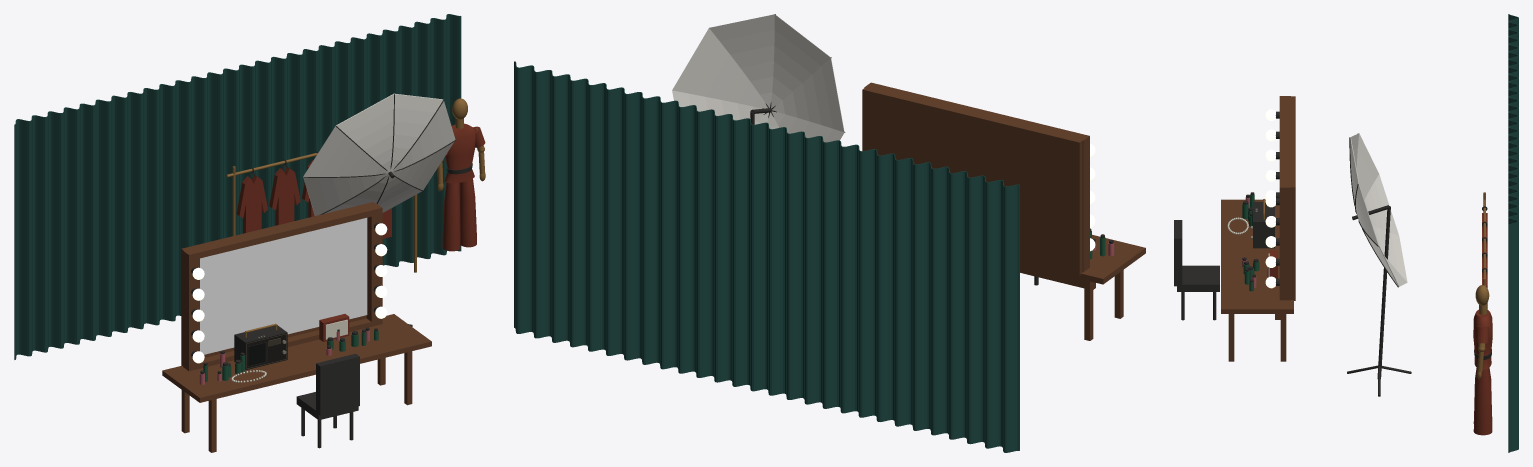
3 views of the same model, side by side, from view 1: azimuth 30°, elevation 25°; view 2: azimuth 150°, elevation 25°; view 3: azimuth 270°, elevation 25° (orthographic). The views are drawn at different scales.
Parts seen in each view (by area): view 1: MIRROR_surface, UMBRELLA_finite_canopy_proxy, TABLE_top, CURTAIN_fold_proxy_0, CURTAIN_fold_proxy_1, CURTAIN_fold_proxy_5, CURTAIN_fold_proxy_4, CURTAIN_fold_proxy_7, CURTAIN_fold_proxy_8, CURTAIN_fold_proxy_2, CURTAIN_fold_proxy_3, CURTAIN_fold_proxy_6 (+34 smaller); view 2: MIRROR_backboard_inferred, UMBRELLA_finite_canopy_proxy, CURTAIN_fold_proxy_4, CURTAIN_fold_proxy_19, CURTAIN_fold_proxy_14, CURTAIN_fold_proxy_24, CURTAIN_fold_proxy_6, CURTAIN_fold_proxy_2, CURTAIN_fold_proxy_1, CURTAIN_fold_proxy_5, CURTAIN_fold_proxy_16, CURTAIN_fold_proxy_26 (+21 smaller); view 3: TABLE_top, UMBRELLA_finite_canopy_proxy, CURTAIN_fold_proxy_27, MIRROR_frame_1, MANNEQUIN_red_bifurcated_lower_proxy_1, CHAIR_seat_proxy, MIRROR_backboard_inferred, MIRROR_frame_horizontal_2.31, COSMETIC_case_body, MANNEQUIN_red_upper_clothing_proxy, UMBRELLA_stand_inferred, CHAIR_back_proxy.
Boxes of the visible parts, bbox=[...] form: MIRROR_surface: bbox=[200, 217, 367, 354]; UMBRELLA_finite_canopy_proxy: bbox=[303, 93, 455, 215]; TABLE_top: bbox=[162, 314, 431, 402]; CURTAIN_fold_proxy_0: bbox=[14, 119, 30, 359]; CURTAIN_fold_proxy_1: bbox=[30, 115, 46, 355]; CURTAIN_fold_proxy_5: bbox=[94, 99, 110, 340]; CURTAIN_fold_proxy_4: bbox=[78, 103, 94, 344]; CURTAIN_fold_proxy_7: bbox=[126, 92, 142, 332]; CURTAIN_fold_proxy_8: bbox=[142, 88, 158, 328]; CURTAIN_fold_proxy_2: bbox=[46, 111, 62, 351]; CURTAIN_fold_proxy_3: bbox=[62, 107, 78, 347]; CURTAIN_fold_proxy_6: bbox=[110, 95, 126, 336]; MIRROR_backboard_inferred: bbox=[862, 87, 1082, 275]; UMBRELLA_finite_canopy_proxy: bbox=[672, 14, 844, 142]; CURTAIN_fold_proxy_4: bbox=[929, 162, 947, 435]; CURTAIN_fold_proxy_19: bbox=[658, 96, 676, 369]; CURTAIN_fold_proxy_14: bbox=[748, 118, 766, 391]; CURTAIN_fold_proxy_24: bbox=[568, 74, 586, 347]; CURTAIN_fold_proxy_6: bbox=[893, 153, 911, 426]; CURTAIN_fold_proxy_2: bbox=[965, 171, 983, 444]; CURTAIN_fold_proxy_1: bbox=[983, 176, 1001, 448]; CURTAIN_fold_proxy_5: bbox=[911, 158, 929, 430]; CURTAIN_fold_proxy_16: bbox=[712, 109, 730, 382]; CURTAIN_fold_proxy_26: bbox=[532, 65, 550, 338]; TABLE_top: bbox=[1221, 199, 1293, 313]; UMBRELLA_finite_canopy_proxy: bbox=[1350, 133, 1407, 286]; CURTAIN_fold_proxy_27: bbox=[1508, 217, 1518, 452]; MIRROR_frame_1: bbox=[1279, 182, 1290, 300]; MANNEQUIN_red_bifurcated_lower_proxy_1: bbox=[1473, 368, 1492, 435]; CHAIR_seat_proxy: bbox=[1177, 265, 1219, 291]; MIRROR_backboard_inferred: bbox=[1289, 96, 1295, 300]; MIRROR_frame_horizontal_2.31: bbox=[1279, 101, 1290, 182]; COSMETIC_case_body: bbox=[1253, 202, 1274, 248]; MANNEQUIN_red_upper_clothing_proxy: bbox=[1473, 310, 1492, 369]; UMBRELLA_stand_inferred: bbox=[1377, 206, 1390, 378]; CHAIR_back_proxy: bbox=[1174, 220, 1182, 286].
Bounding box in the file's own units: 6.29 × 3.34 × 4.25.
Materials: 13 (1 with a texture image).
